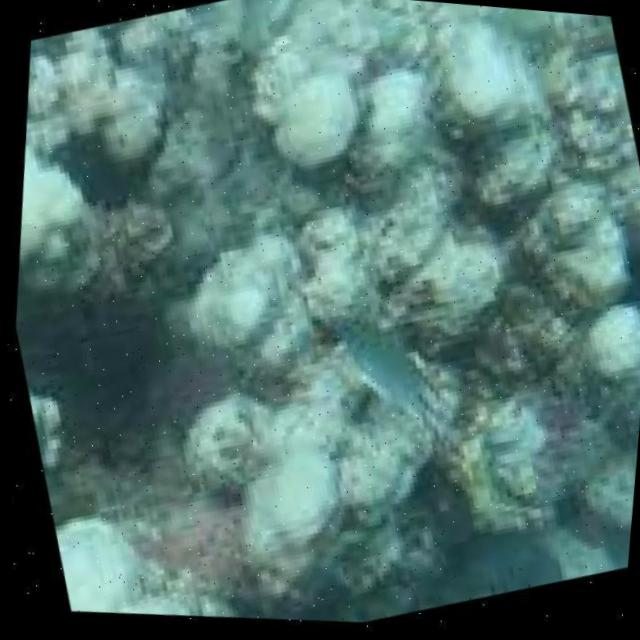Bleached Coral: (25, 0, 640, 624)
